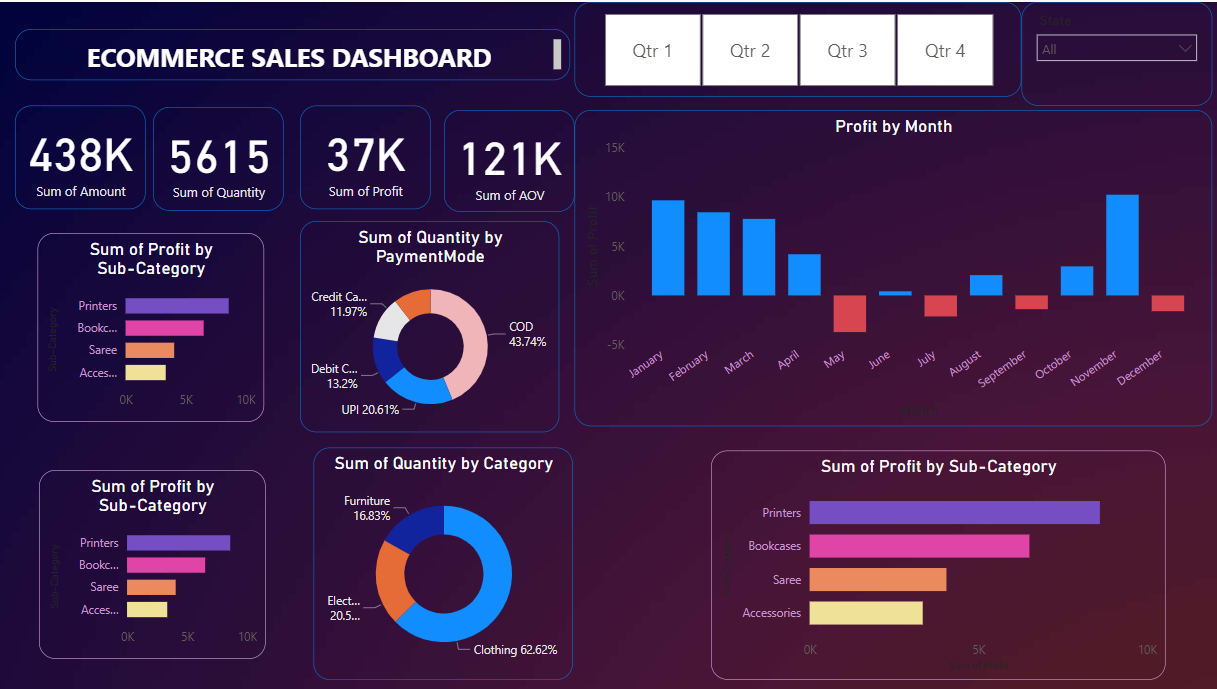

What the dashboard file says about the page in this screenshot:
{"tool":"powerbi","page":{"name":"Page 1","canvas":[1280,720],"ordinal":0},"visuals":[{"type":"columnChart","title":"Profit by Month","fields":{"Y":["Sum(Details.Profit)"],"Category":["Orders.Order Date.Variation.Date Hierarchy.Month"]},"box":[601.3,112.5,663.8,329.5],"z":0},{"type":"textbox","box":[18.7,28.1,577.9,53.1],"z":1000},{"type":"clusteredBarChart","fields":{"Category":["Details.Sub-Category"],"Y":["Sum(Details.Profit)"]},"box":[743.4,467,473.2,239],"z":2000},{"type":"card","fields":{"Values":["Sum(Details.Amount)"]},"box":[18.7,107.8,135.9,107.8],"z":3000},{"type":"donutChart","fields":{"Category":["Details.Category"],"Y":["Sum(Details.Quantity)"]},"box":[329.5,463.9,270.2,242.1],"z":4000},{"type":"donutChart","fields":{"Y":["Sum(Details.Quantity)"],"Category":["Details.PaymentMode"]},"box":[326.4,228,270.2,220.2],"z":5000},{"type":"card","fields":{"Values":["Sum(Details.Quantity)"]},"box":[162.4,109.3,135.9,107.8],"z":6000},{"type":"card","fields":{"Values":["Sum(Details.Profit)"]},"box":[315.5,107.8,135.9,107.8],"z":7000},{"type":"card","fields":{"Values":["Sum(Details.AOV)"]},"box":[465.4,112.5,135.9,106.2],"z":8000},{"type":"clusteredBarChart","fields":{"Category":["Details.Sub-Category"],"Y":["Sum(Details.Profit)"]},"box":[42.2,240.5,235.8,196.8],"z":9000},{"type":"clusteredBarChart","fields":{"Category":["Details.Sub-Category"],"Y":["Sum(Details.Profit)"]},"box":[43.7,487.3,235.8,196.8],"z":10000},{"type":"slicer","fields":{"Values":["Orders.State"]},"box":[1066.7,0,198.4,107.8],"z":11000},{"type":"slicer","fields":{"Values":["Orders.Order Date.Variation.Date Hierarchy.Quarter"]},"box":[601.3,0,465.4,98.4],"z":12000}]}

Visuals, with their boxes in screenshot pixels (x1, y1, x2, y2), scaled from the page's 1280x720 canvas onto the 1217x689 screenshot:
"Profit by Month" columnChart: box=[572, 108, 1203, 423]
textbox: box=[18, 27, 567, 78]
clusteredBarChart - Details.Sub-Category x Sum(Details.Profit): box=[707, 447, 1157, 676]
card - Sum(Details.Amount): box=[18, 103, 147, 206]
donutChart - Details.Category x Sum(Details.Quantity): box=[313, 444, 570, 676]
donutChart - Sum(Details.Quantity) x Details.PaymentMode: box=[310, 218, 567, 429]
card - Sum(Details.Quantity): box=[154, 105, 284, 208]
card - Sum(Details.Profit): box=[300, 103, 429, 206]
card - Sum(Details.AOV): box=[442, 108, 572, 209]
clusteredBarChart - Details.Sub-Category x Sum(Details.Profit): box=[40, 230, 264, 418]
clusteredBarChart - Details.Sub-Category x Sum(Details.Profit): box=[42, 466, 266, 655]
slicer - Orders.State: box=[1014, 0, 1203, 103]
slicer - Orders.Order Date.Variation.Date Hierarchy.Quarter: box=[572, 0, 1014, 94]
